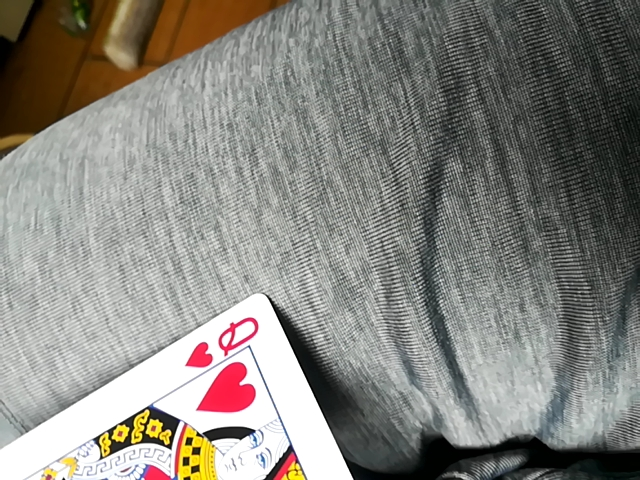hx q: (5, 296, 358, 480)
